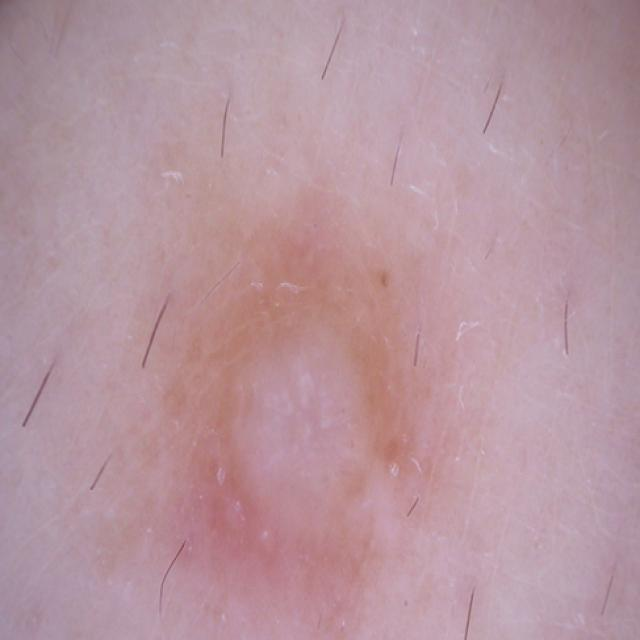Dermatofibroma: (154, 212, 457, 618)
